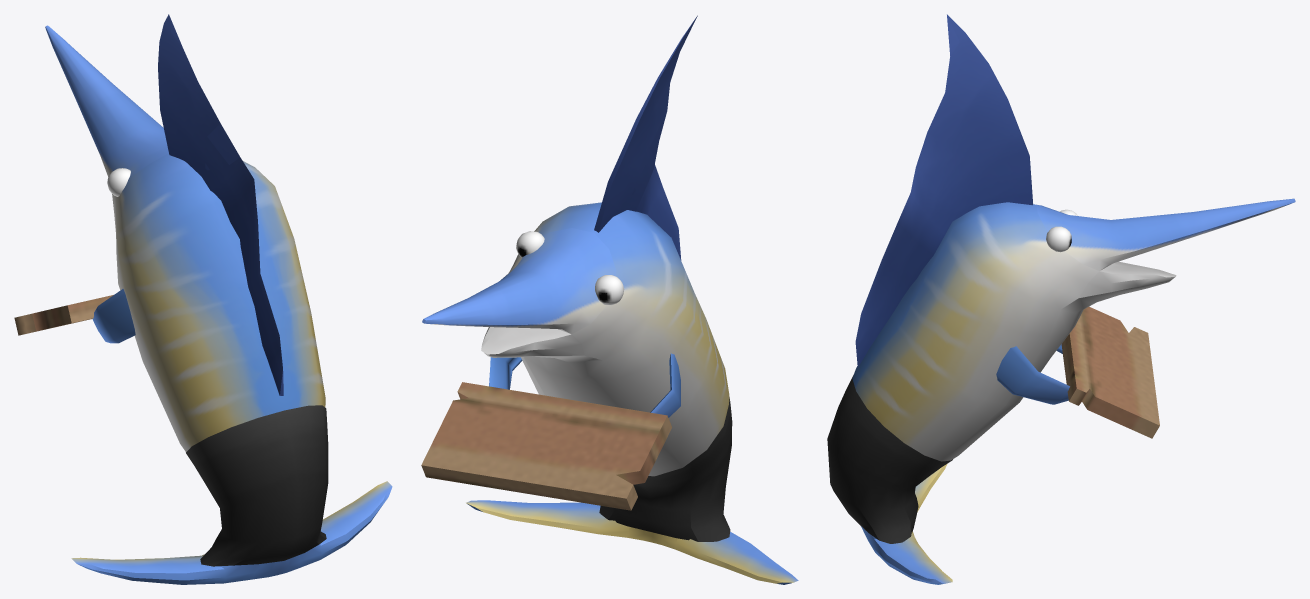
The model's file is kajiki_walk_c_08.fbx.
3 views of the same model, side by side, from view 1: azimuth 30°, elevation 25°; view 2: azimuth 150°, elevation 25°; view 3: azimuth 270°, elevation 25° (orthographic). The views are drawn at different scales.
Parts seen in each view (by area): view 1: W_c_08; view 2: W_c_08; view 3: W_c_08.
Boxes of the visible parts, x1,y1,x2,y2 form: W_c_08: [14, 14, 392, 584]; W_c_08: [421, 15, 798, 584]; W_c_08: [827, 14, 1295, 584].
Bounding box in the file's own units: 1.46 × 2.41 × 2.09.
1 material, 1 textured.
